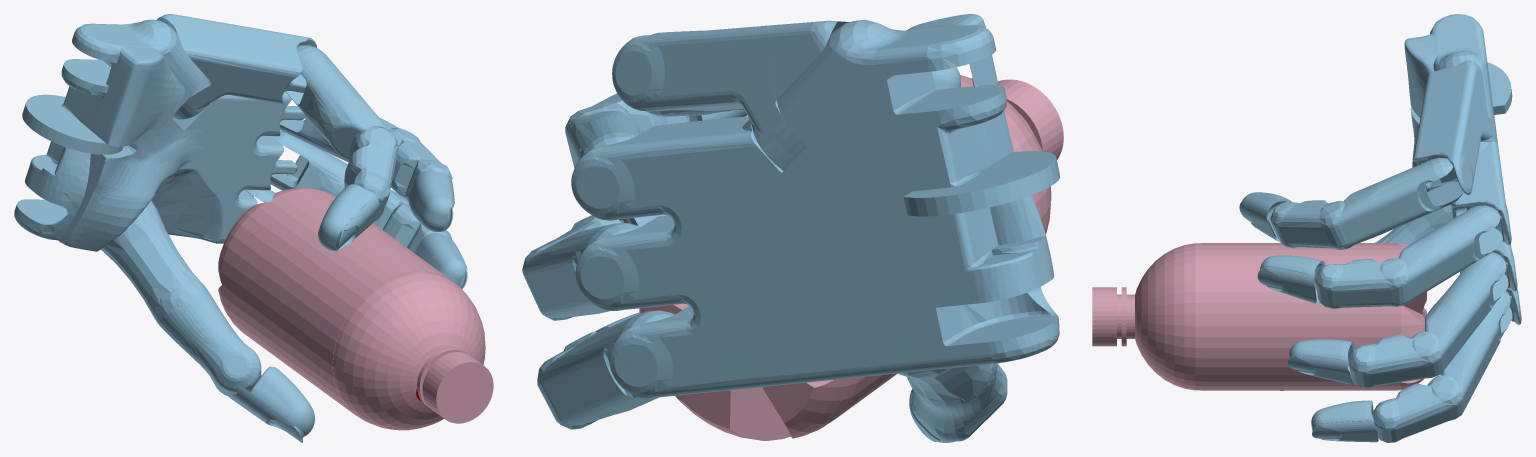
The picture shows the model from 3 angles, left to right: view 1: azimuth 30°, elevation 25°; view 2: azimuth 150°, elevation 25°; view 3: azimuth 270°, elevation 25°; orthographic projection. The views are drawn at different scales.
Parts seen in each view (by area): view 1: world, water_bottle.stl; view 2: world, water_bottle.stl; view 3: world, water_bottle.stl.
Part boxes in pixels (x1,y1,x2,y2): world: [14, 14, 467, 442]; water_bottle.stl: [218, 188, 493, 430]; world: [522, 14, 1060, 442]; water_bottle.stl: [639, 75, 1063, 440]; world: [1239, 14, 1521, 442]; water_bottle.stl: [1092, 243, 1426, 390].
Bounding box in the file's own units: 0.1562 × 0.1463 × 0.1751.
